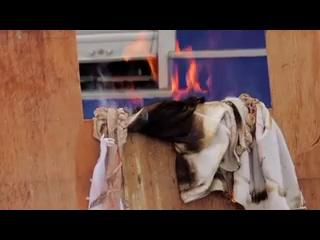Fire: (126, 31, 244, 108)
